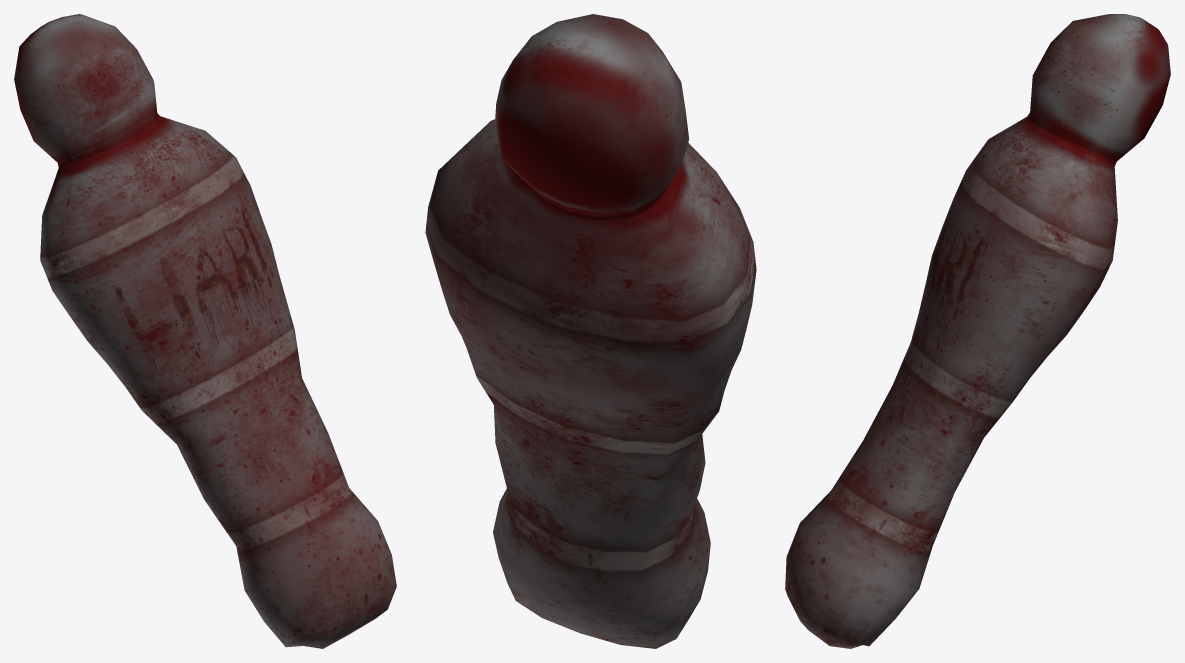
File: game_ready_-_dead_body.glb
3 views of the same model, side by side, from view 1: azimuth 30°, elevation 25°; view 2: azimuth 150°, elevation 25°; view 3: azimuth 270°, elevation 25° (orthographic). The views are drawn at different scales.
Visible parts, largest first — view 1: pCube41; view 2: pCube41; view 3: pCube41.
Part boxes in pixels (bbox=[...]): pCube41: bbox=[14, 14, 396, 648]; pCube41: bbox=[425, 14, 756, 648]; pCube41: bbox=[785, 14, 1170, 648].
Size of the model in its own units: 3.1 by 6.44 by 4.
Materials: 1 (1 with a texture image).
